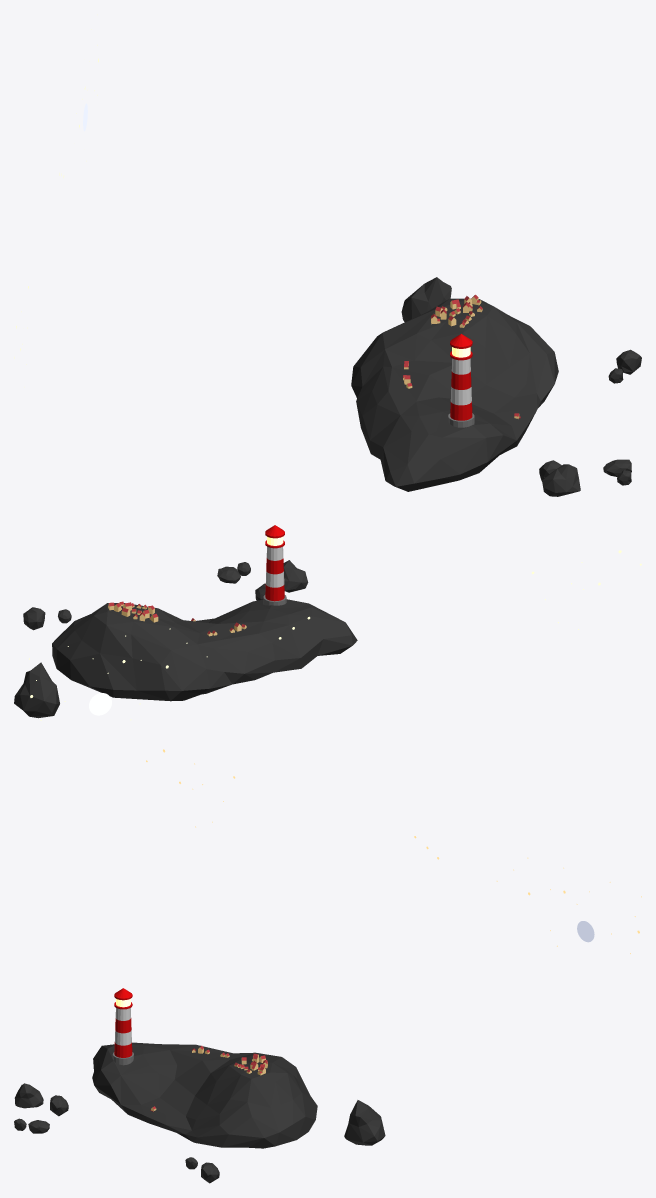
Rendered from lighthouse__village_-_lowpoly_scene.glb.
The picture shows the model from 3 angles, top to bottom: view 1: azimuth 30°, elevation 25°; view 2: azimuth 150°, elevation 25°; view 3: azimuth 270°, elevation 25°; orthographic projection. The views are drawn at different scales.
Visible parts, largest first — view 1: Base_Rocks, LightHouse, Rock_Debry2, Rock_Debry.001; view 2: Base_Rocks, Rock_Debry2, LightHouse, Rock_Debry.001, Moon, Rock_Debry.005, Rock_Debry.002; view 3: Base_Rocks, Rock_Debry2, LightHouse.
Part boxes in pixels (box(x1,y1,x2,y2)): Base_Rocks: box(351, 298, 558, 491); LightHouse: box(448, 334, 474, 427); Rock_Debry2: box(401, 277, 451, 321); Rock_Debry.001: box(542, 464, 580, 496); Base_Rocks: box(52, 599, 357, 701); Rock_Debry2: box(14, 662, 59, 718); LightHouse: box(263, 525, 286, 605); Rock_Debry.001: box(283, 560, 308, 592); Moon: box(89, 693, 111, 715); Rock_Debry.005: box(23, 607, 45, 630); Rock_Debry.002: box(217, 566, 240, 583); Base_Rocks: box(92, 1042, 317, 1148); Rock_Debry2: box(344, 1100, 385, 1145); LightHouse: box(112, 988, 133, 1065).
Size of what is drawn, in the model's own units: 57.97 by 19.79 by 58.86.
